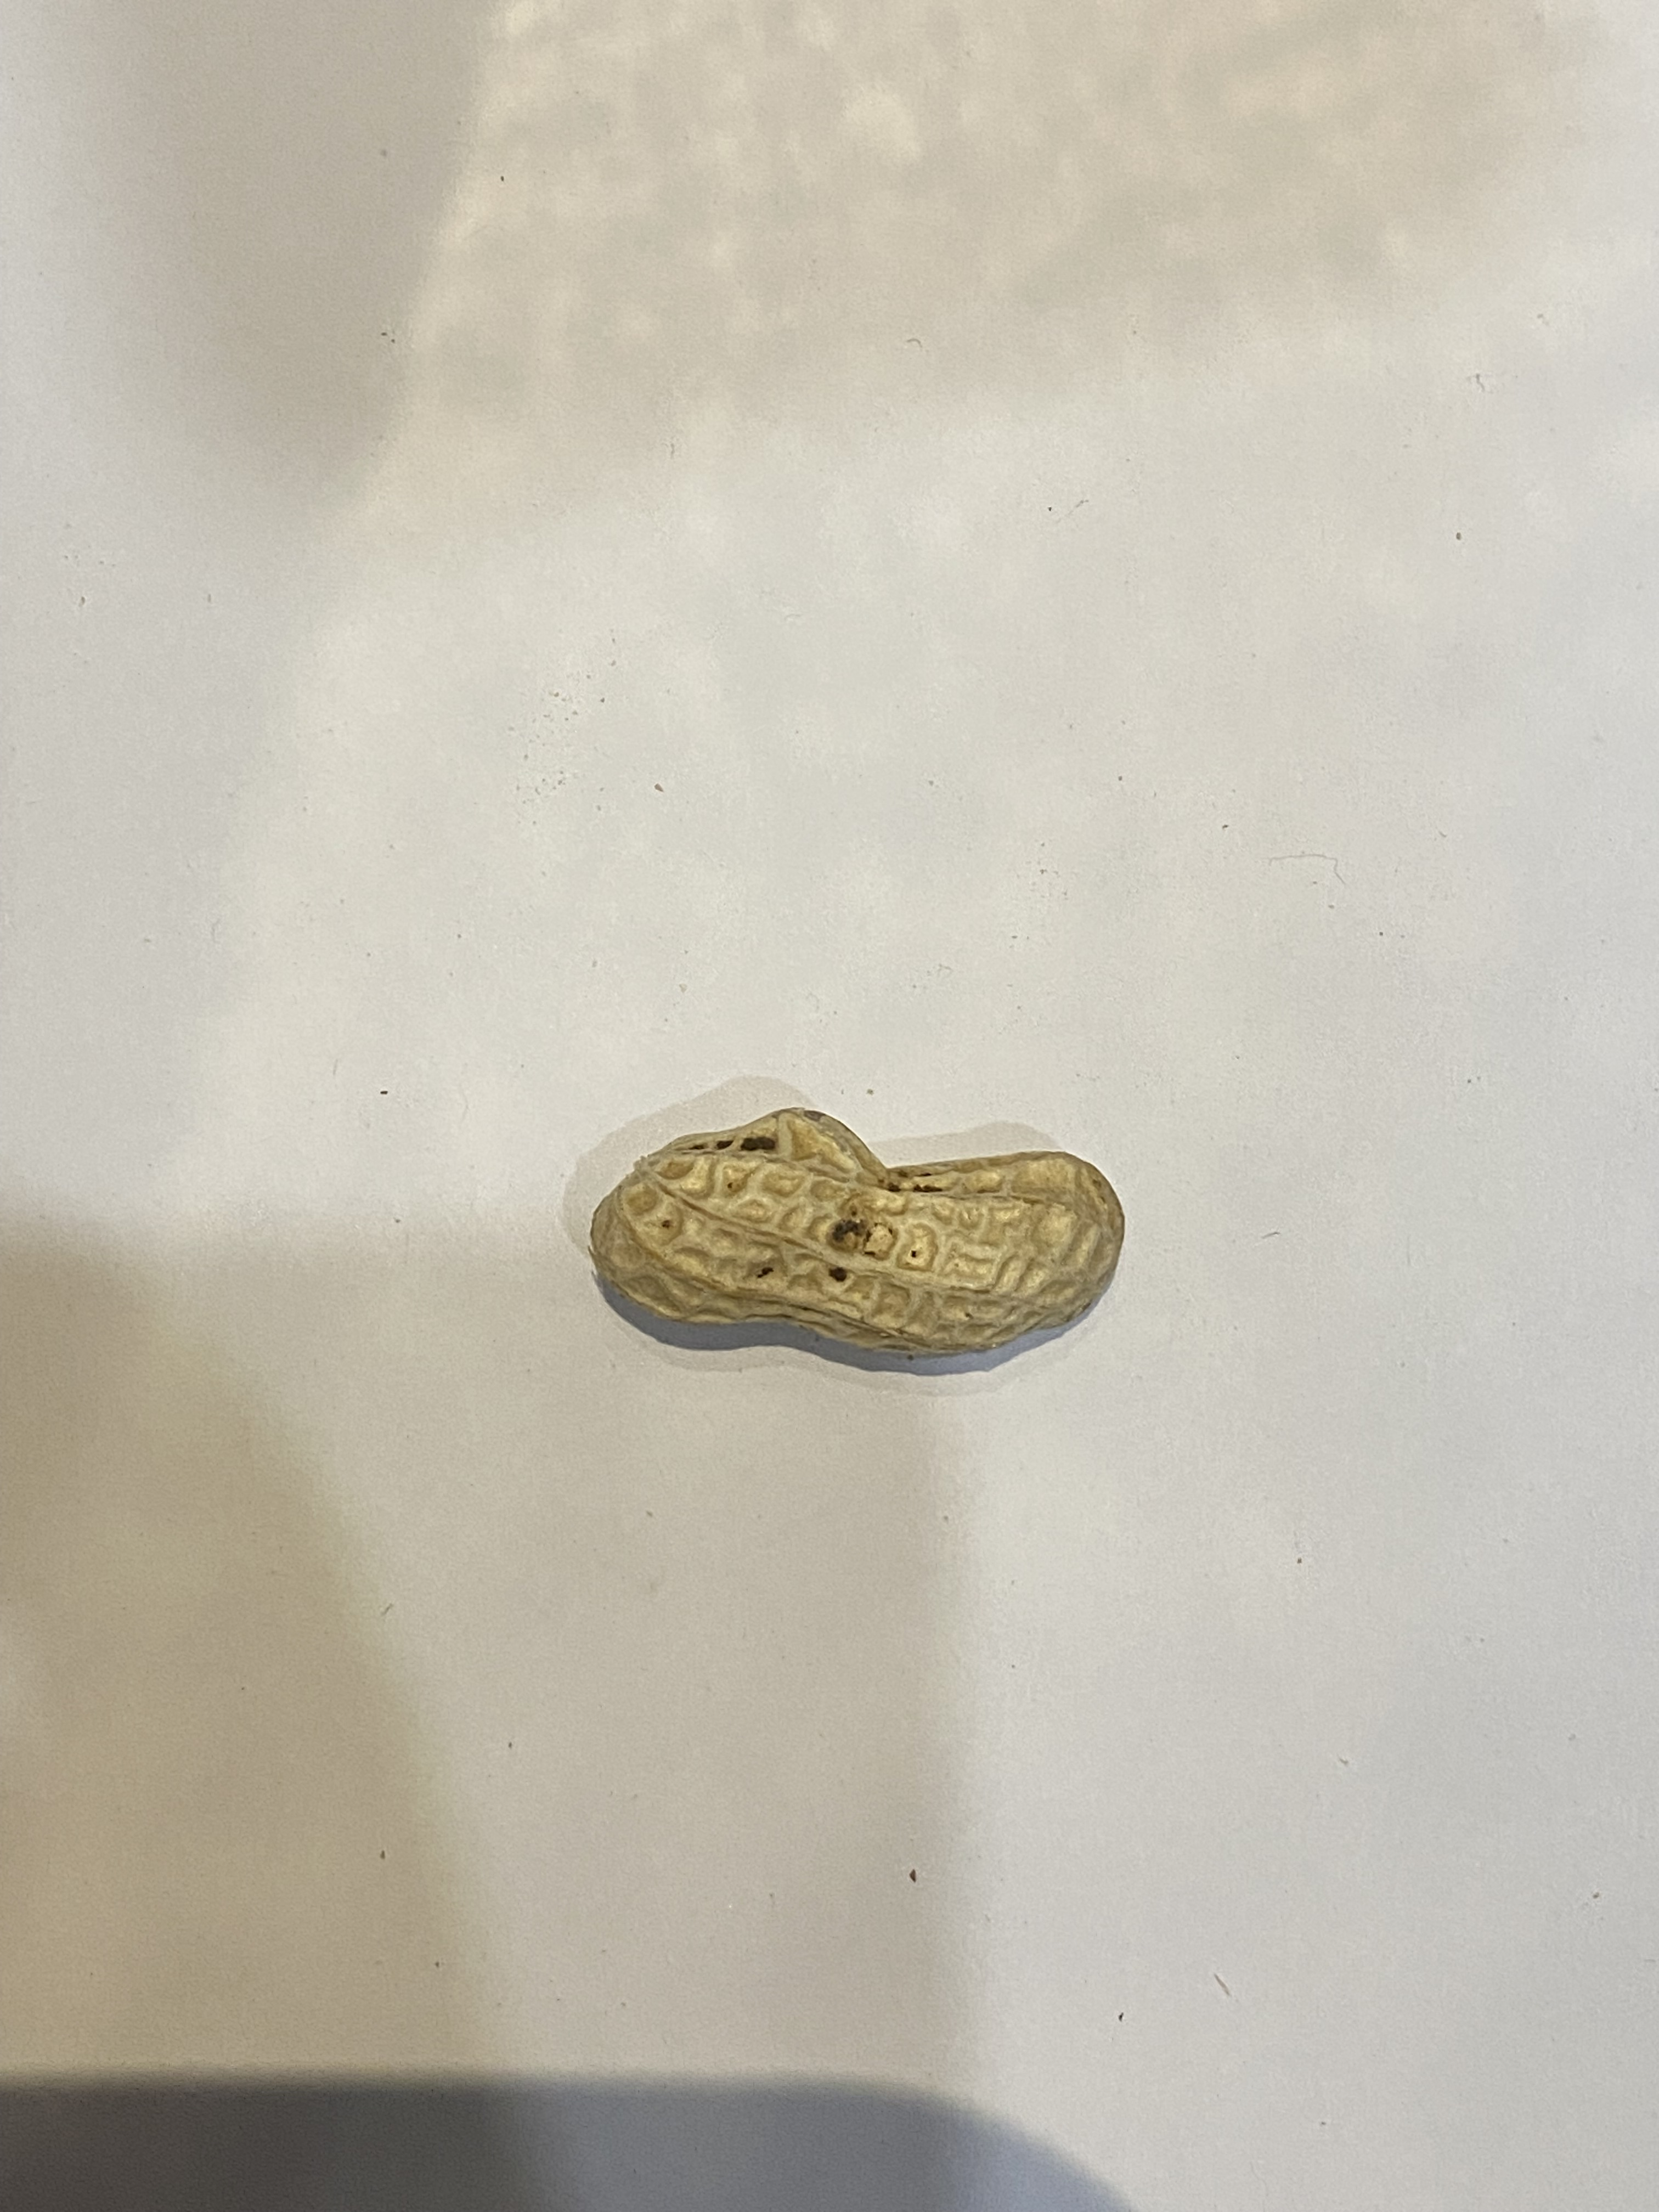kacang2: (573, 1085, 1140, 1371)
